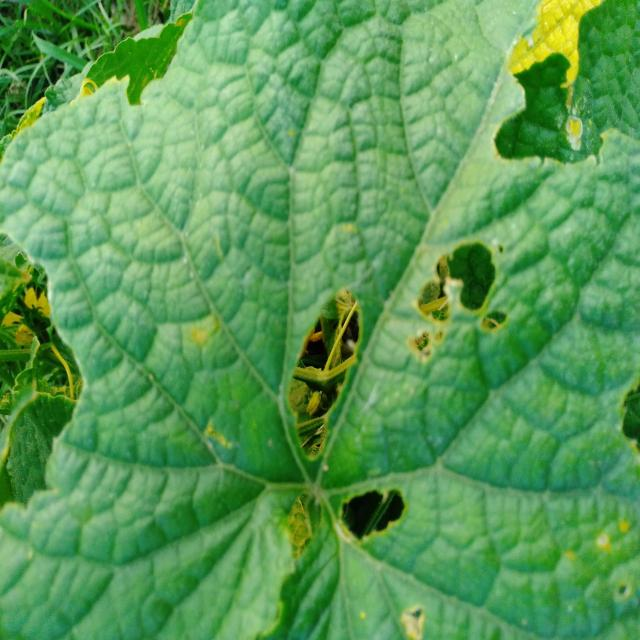cucumber_anthracnose: (90, 8, 638, 628)
